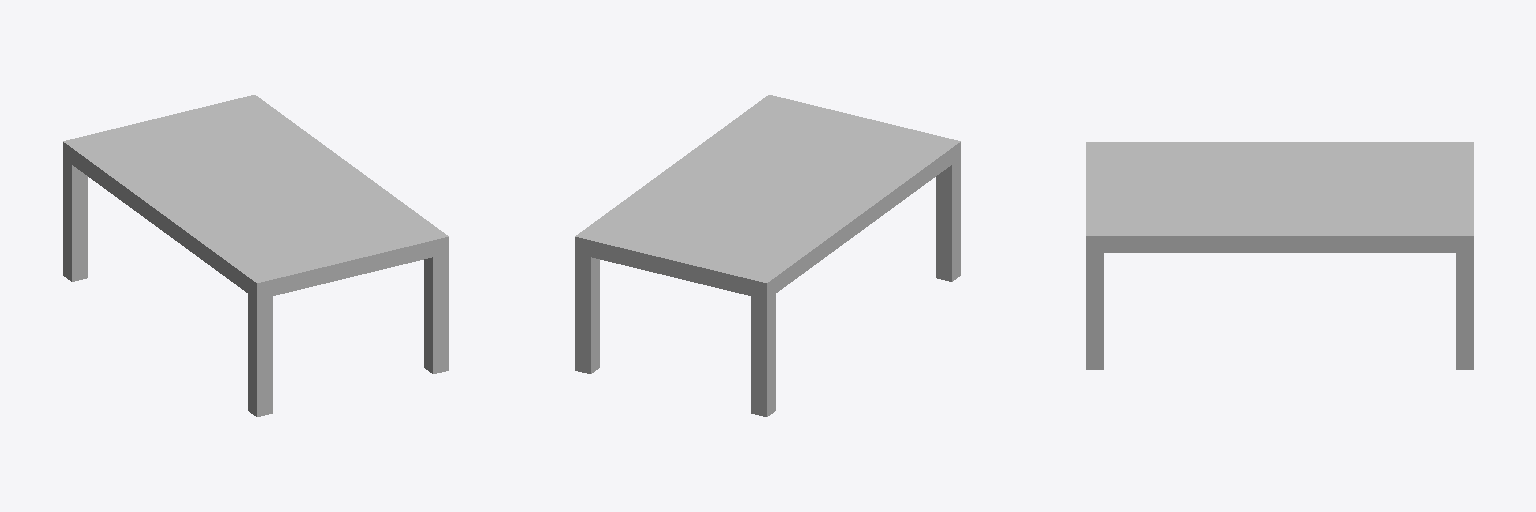
The model's file is escenario (1)-5.obj.
3 renders of one model, left to right at view 1: azimuth 30°, elevation 25°; view 2: azimuth 150°, elevation 25°; view 3: azimuth 270°, elevation 25°, orthographic.
Visible parts, largest first — view 1: object 1; view 2: object 1; view 3: object 1.
Part boxes in pixels (x1,y1,x2,y2): object 1: (63,95,448,416); object 1: (575,95,960,416); object 1: (1086,142,1473,369).
Size of the model in its own units: 1.2 by 0.8 by 2.1.